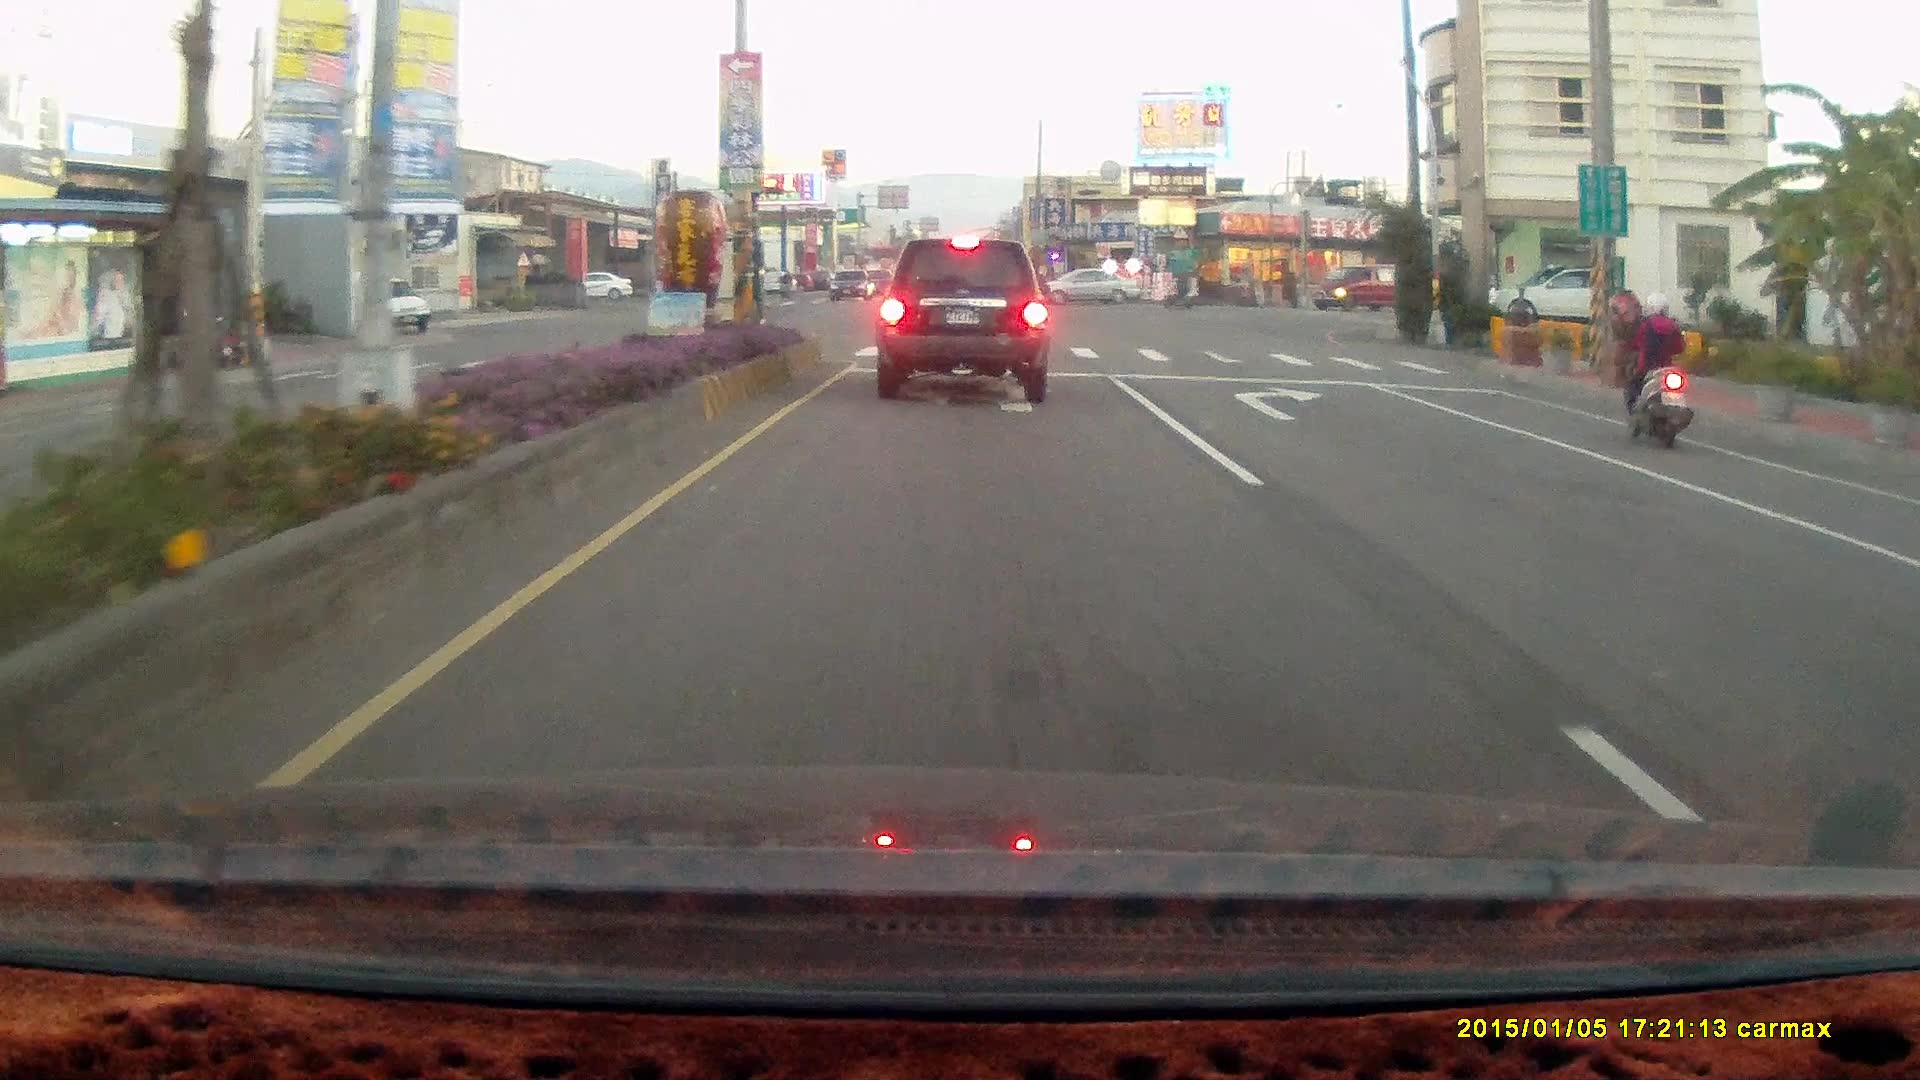rider: (1618, 291, 1695, 454), (1163, 270, 1198, 310)
vehicle: (875, 237, 1053, 404), (1488, 263, 1637, 329), (1896, 493, 1920, 836), (1493, 265, 1608, 328), (1883, 528, 1920, 690), (353, 274, 434, 337), (1311, 265, 1414, 312), (1032, 269, 1143, 310), (1032, 264, 1141, 304)
